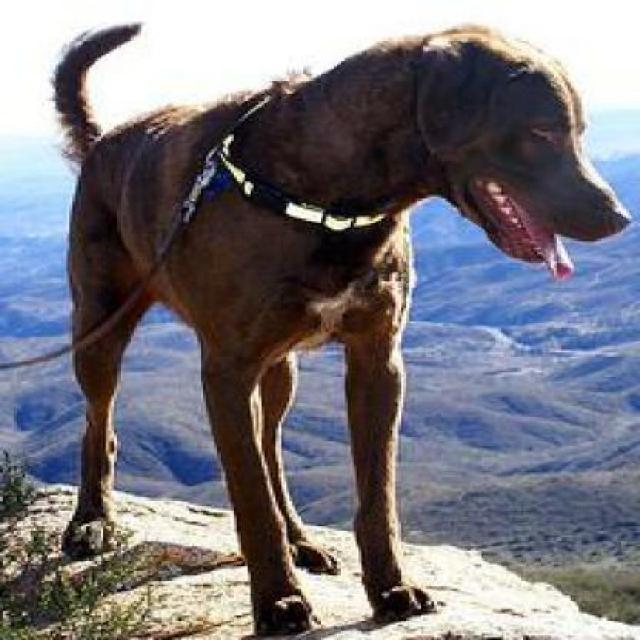Dog: (41, 11, 637, 638)
